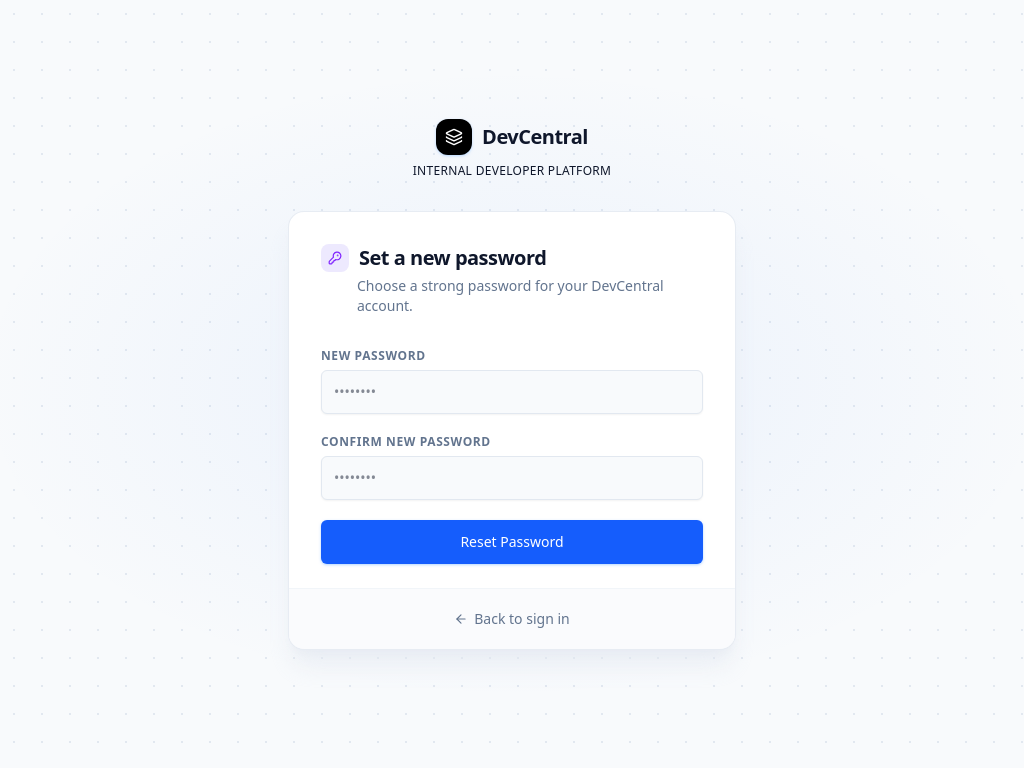
Test: ResetPasswordPage › shows an error without fetching when the password is fewer than 6 characters
Type "abc" into the password field labelled "New Password" at (512, 392), box [321,370,703,414]
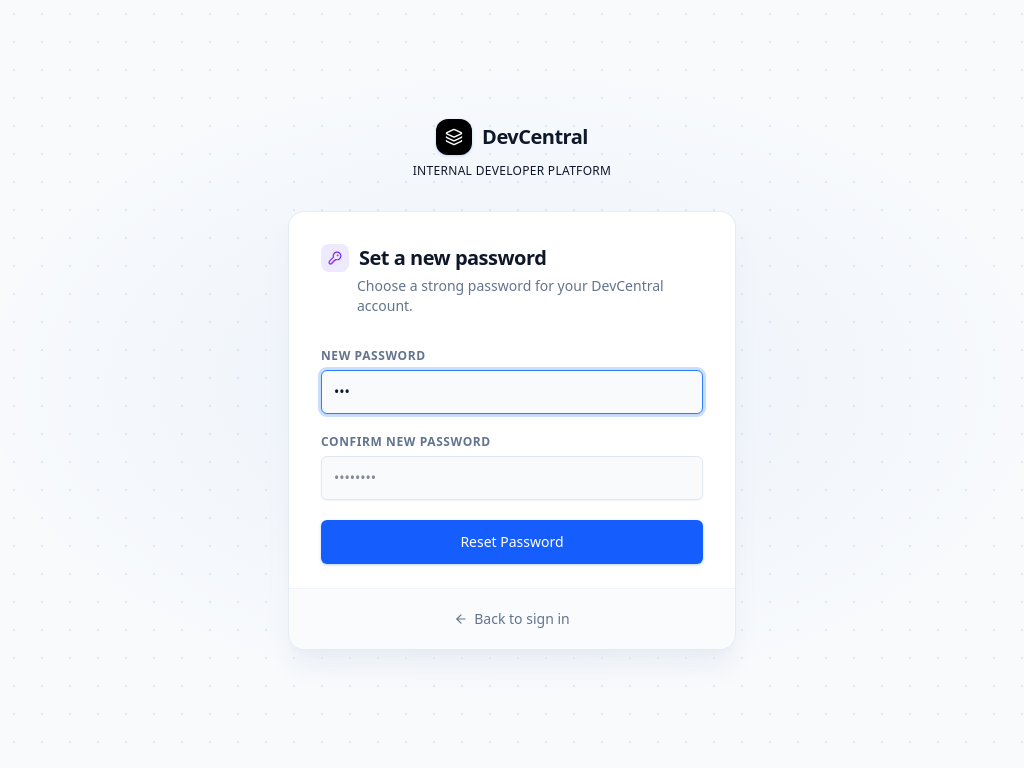
Type "abc" into the password field labelled "Confirm New Password" at (512, 478), box [321,456,703,500]
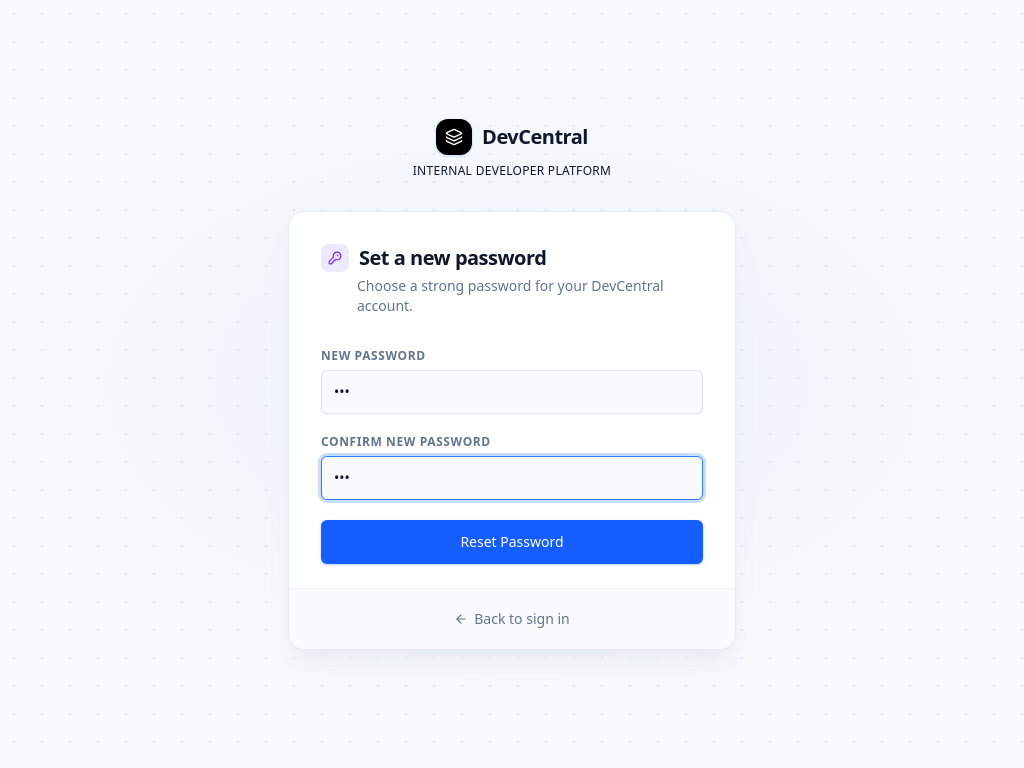
Click the button "Reset Password" at (512, 542), box [321,520,703,564]
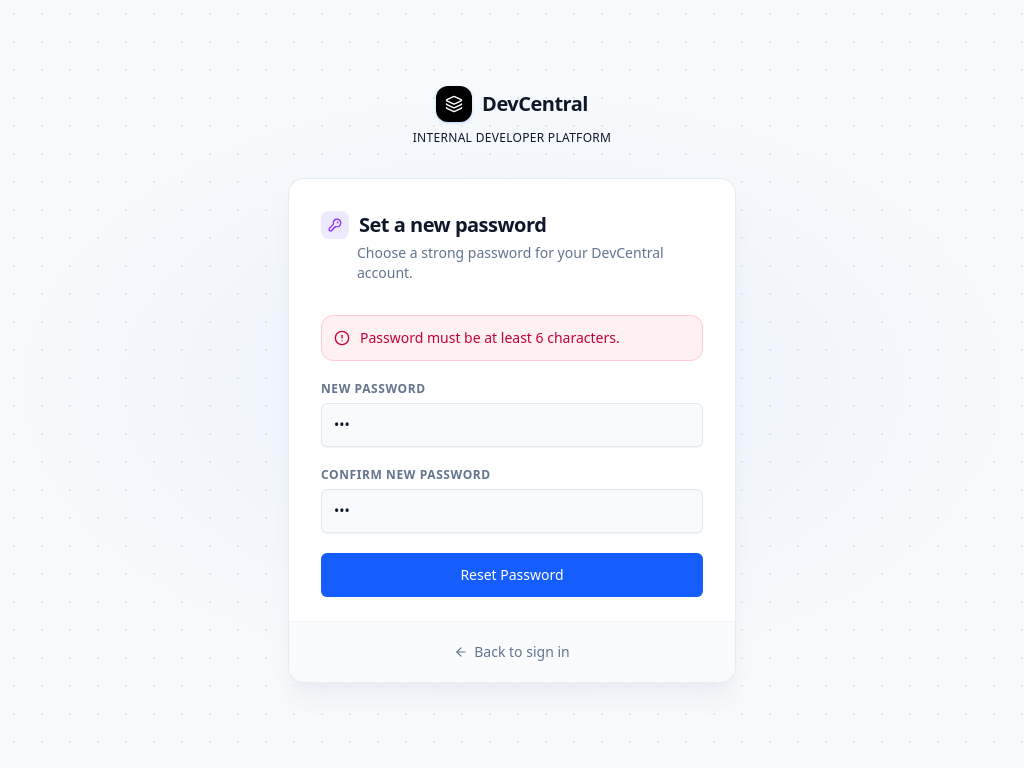
Now the text "Password must be at least 6 characters." is shown, box [360,328,620,348]
